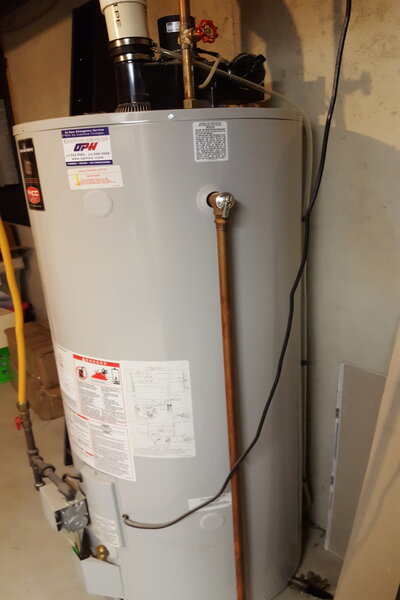valve: (207, 189, 238, 233)
